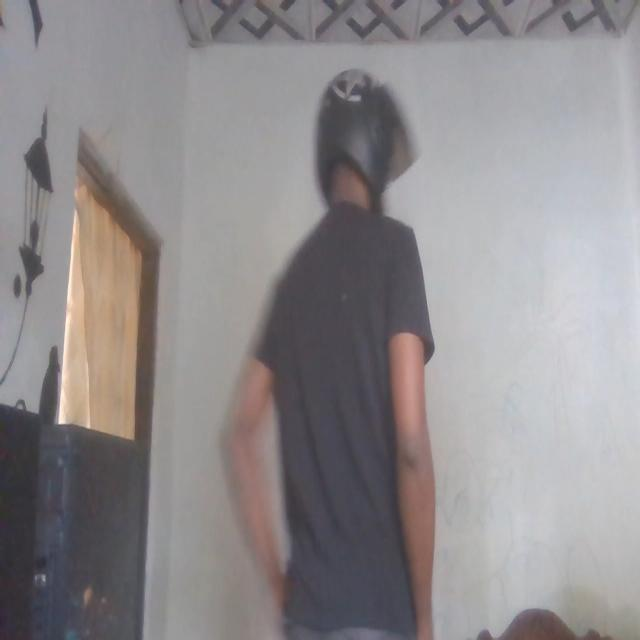Helmet_Wearer: (310, 59, 430, 257)
Person: (224, 57, 428, 640)
